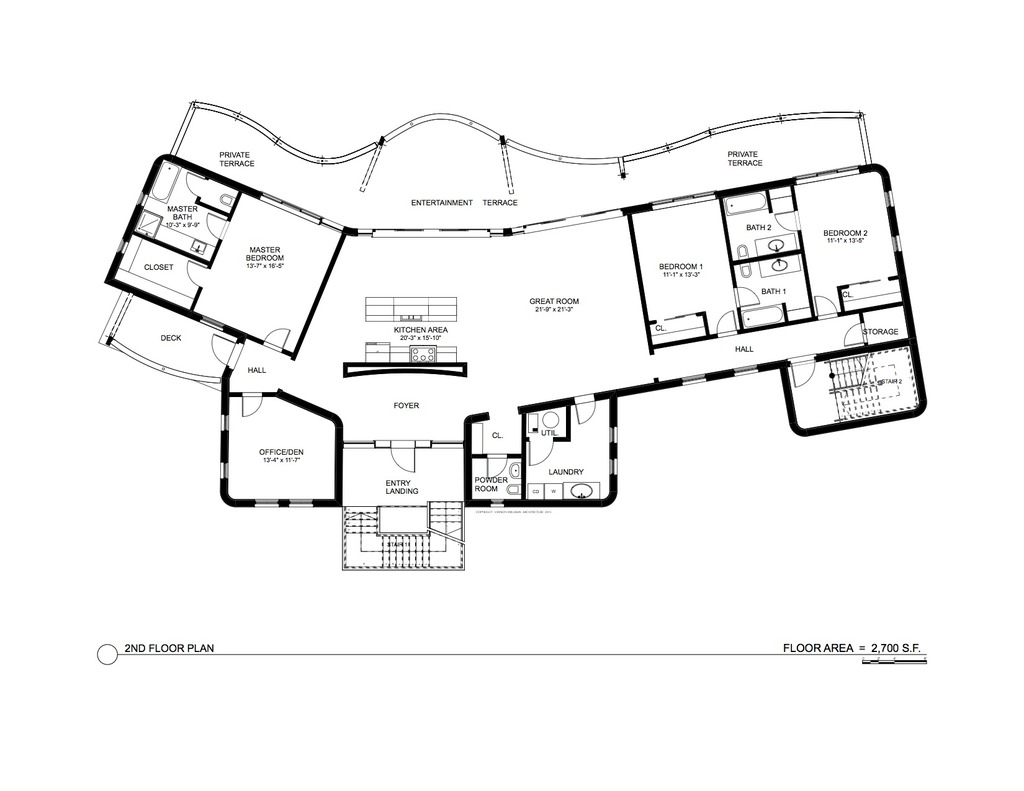door: (382, 437, 423, 476), (205, 331, 242, 364), (783, 355, 816, 389), (570, 394, 603, 424), (520, 437, 554, 466), (204, 206, 232, 238), (772, 209, 814, 230), (183, 172, 209, 203), (264, 325, 289, 356), (714, 309, 737, 341), (237, 392, 267, 416), (186, 259, 209, 290), (813, 290, 836, 321), (841, 323, 868, 347), (738, 284, 762, 306)
kitchen_bar: (365, 294, 461, 326)
small_sink: (562, 479, 599, 502)
stairs: (343, 500, 467, 574), (825, 351, 923, 426)
tub: (743, 305, 787, 332), (151, 163, 177, 206), (723, 194, 767, 218)
windows: (246, 495, 319, 510)
